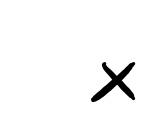mult: (91, 63, 139, 102)
